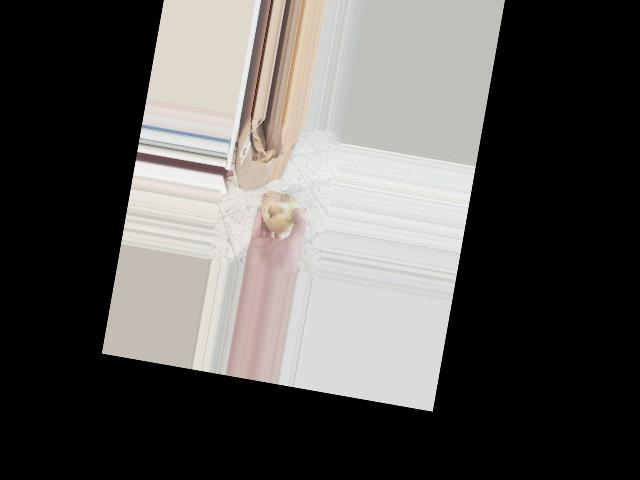onion: (254, 187, 309, 240)
